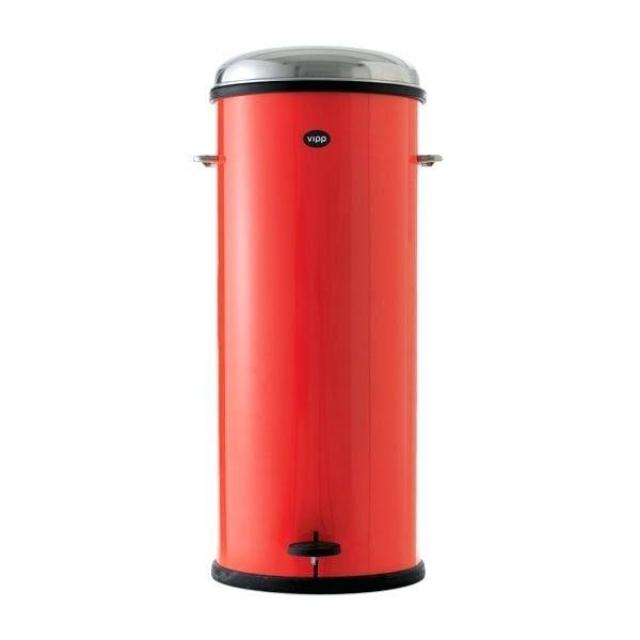plastic_bottle: (189, 37, 465, 605)
